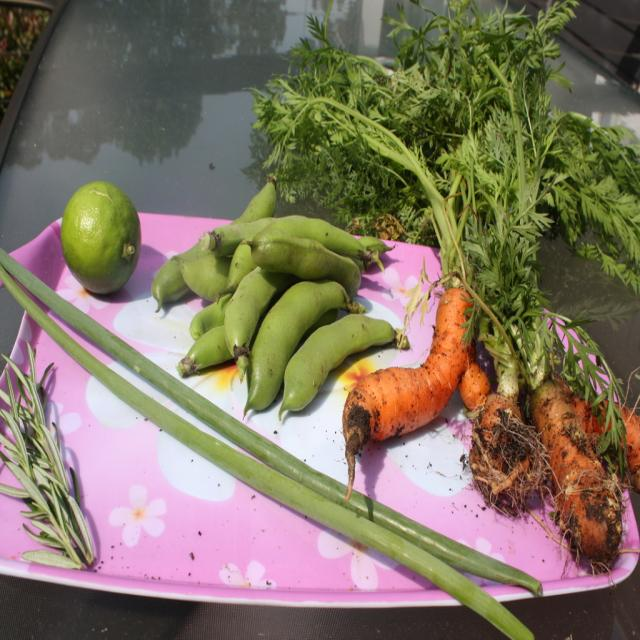carrot: (341, 282, 492, 500), (532, 371, 624, 574), (470, 393, 555, 513), (570, 388, 640, 490), (460, 358, 488, 412)
